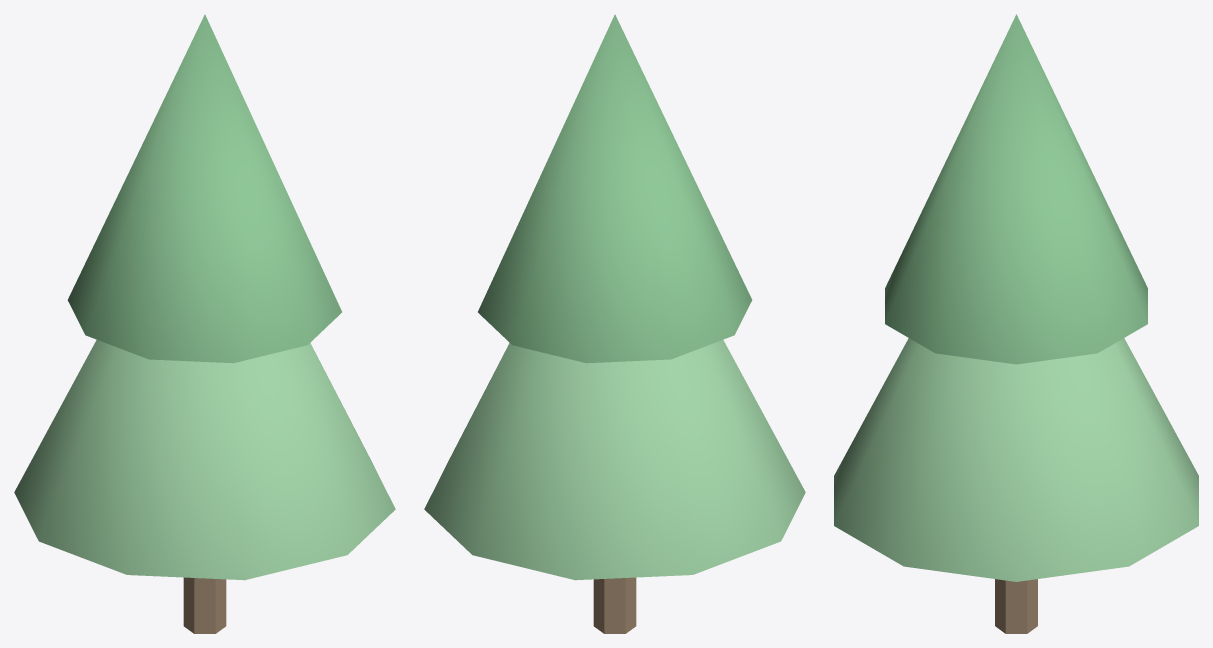
The model's file is tree_cone.glb.
The picture shows the model from 3 angles, left to right: view 1: azimuth 30°, elevation 25°; view 2: azimuth 150°, elevation 25°; view 3: azimuth 270°, elevation 25°; orthographic projection.
Visible parts, largest first — view 1: Body; view 2: Body; view 3: Body.
Part boxes in pixels (left/top/right/bottom): Body: left=14, top=14, right=395, bottom=633; Body: left=424, top=14, right=805, bottom=633; Body: left=834, top=14, right=1198, bottom=633.
Size of the model in its own units: 2.5 by 4.4 by 2.38.
